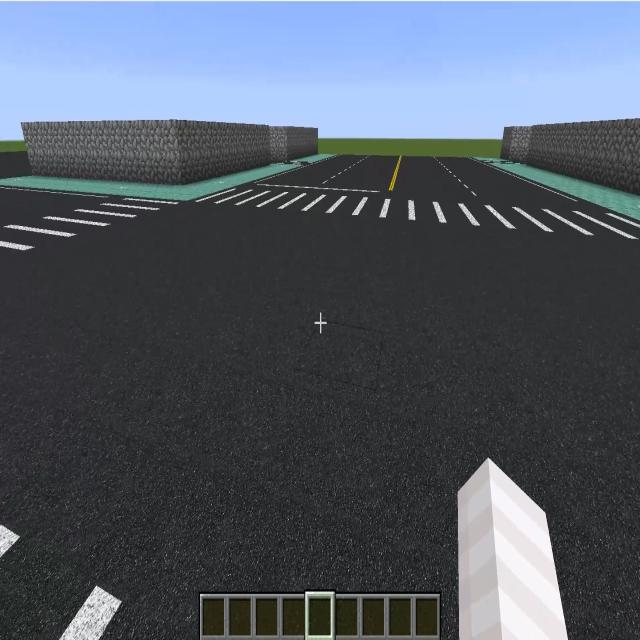crosswalk: (0, 522, 190, 639), (195, 190, 640, 238), (0, 199, 172, 267)
road: (0, 207, 640, 639), (247, 156, 608, 208), (0, 189, 116, 222), (0, 154, 31, 174)
sidewalk: (0, 164, 301, 201), (473, 158, 640, 221), (291, 154, 335, 163)
